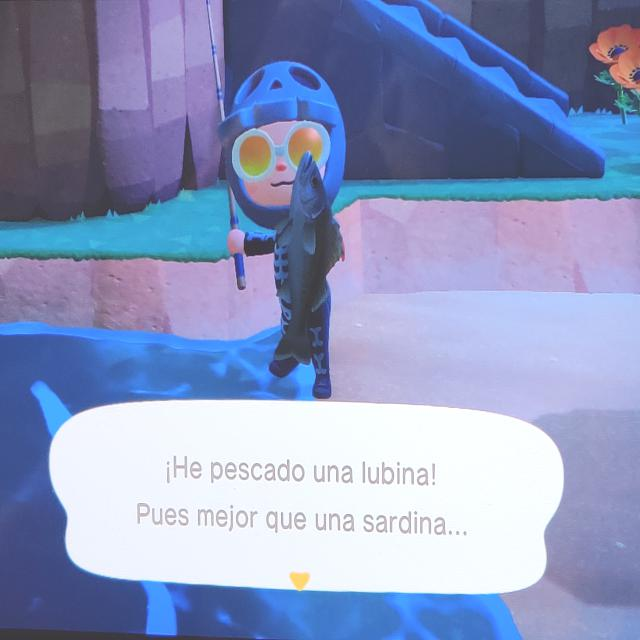text_bubble: (47, 393, 569, 602)
